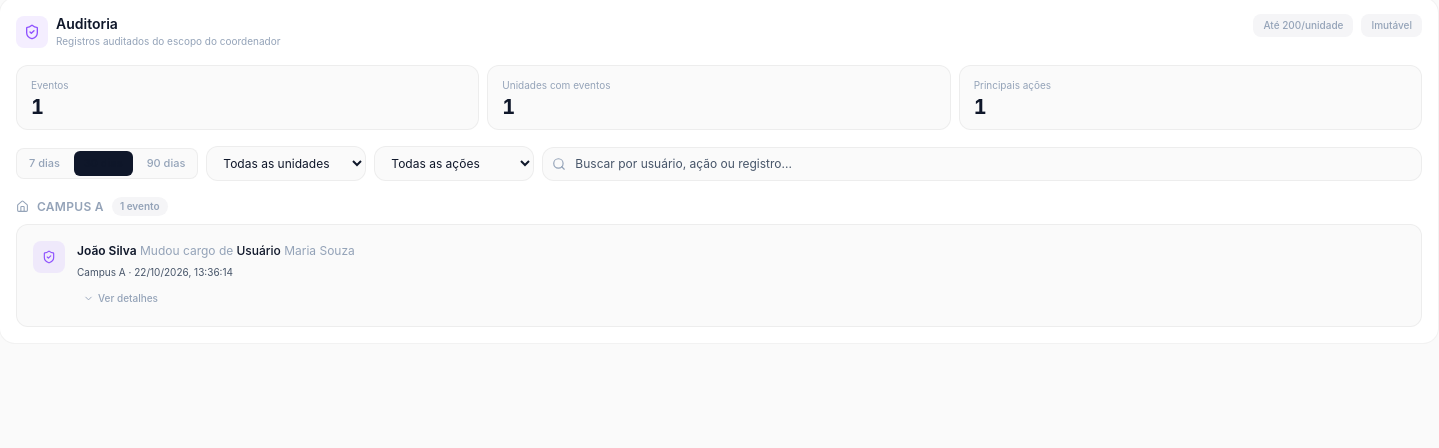
CoordinatorAuditTab — auditoria READ-ONLY sobre o escopo visível (V1) › metadata pode ser expandida com aviso técnico
The width and height of the screenshot is (1439, 448).
Expected: the element with test id "audit-event-a" is shown, top-left (33, 241), bottom-right (355, 308)
Step 1. Click the button with test id "audit-meta-toggle-a" → {"x": 120, "y": 298}, box top-left (77, 288), bottom-right (164, 308)
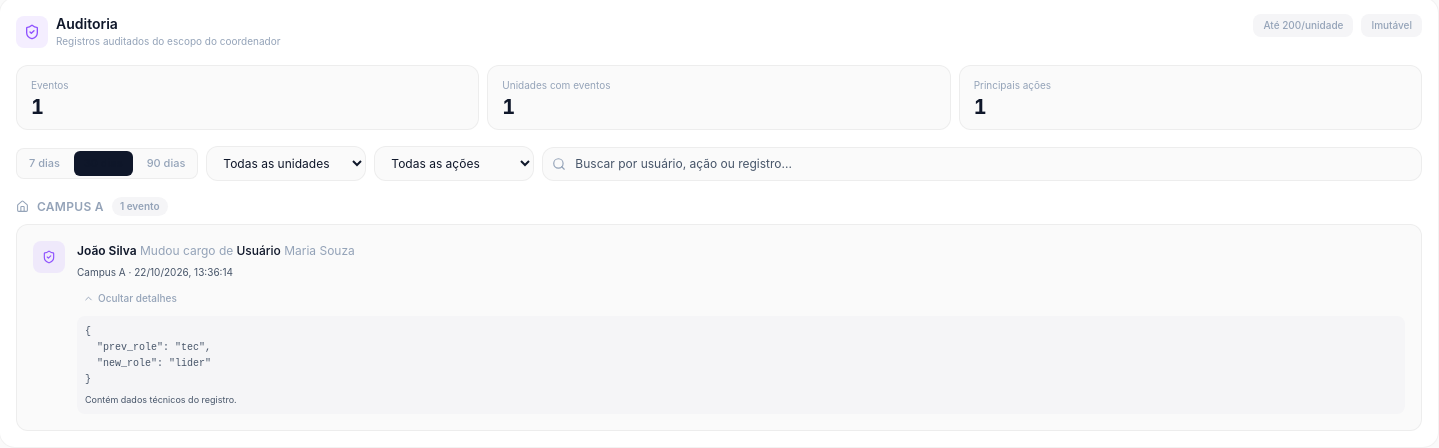
Now the text "Contém dados técnicos do registro." is shown, box top-left (85, 394), bottom-right (237, 404)
Now the text with test id "audit-meta-a" shows "prev_role", box top-left (85, 326), bottom-right (211, 385)
